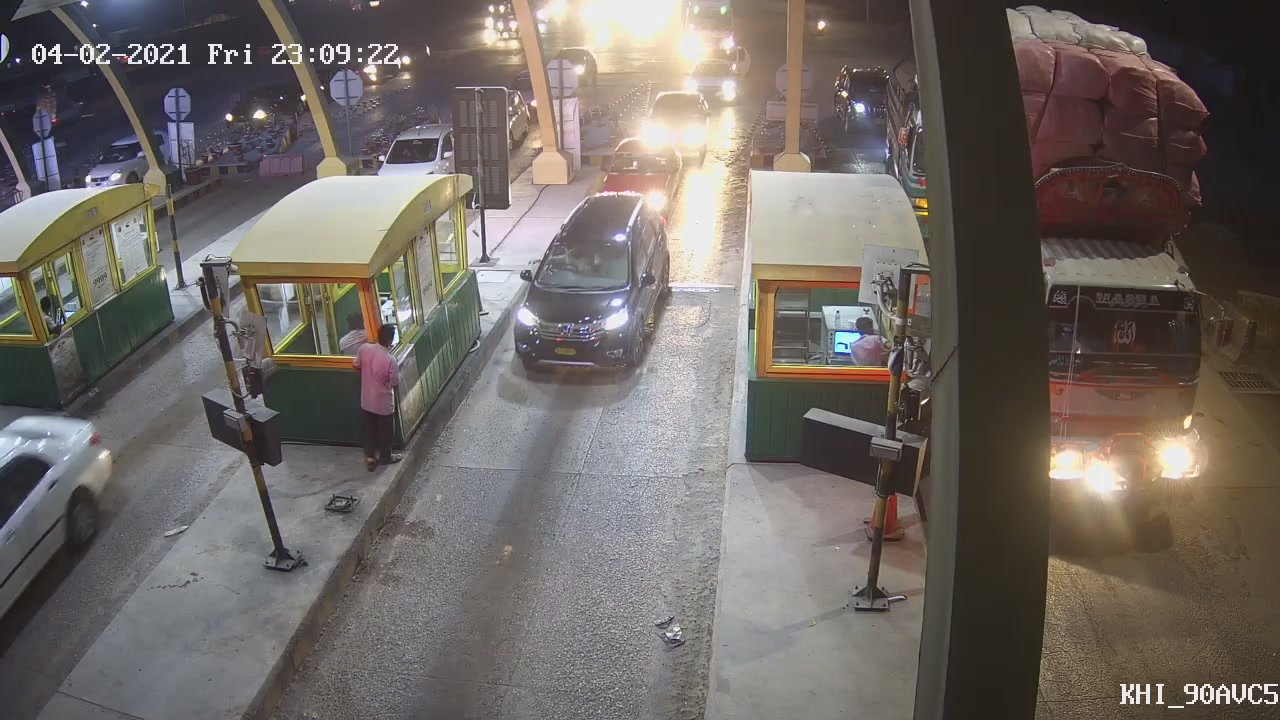F1: (510, 189, 673, 383)
